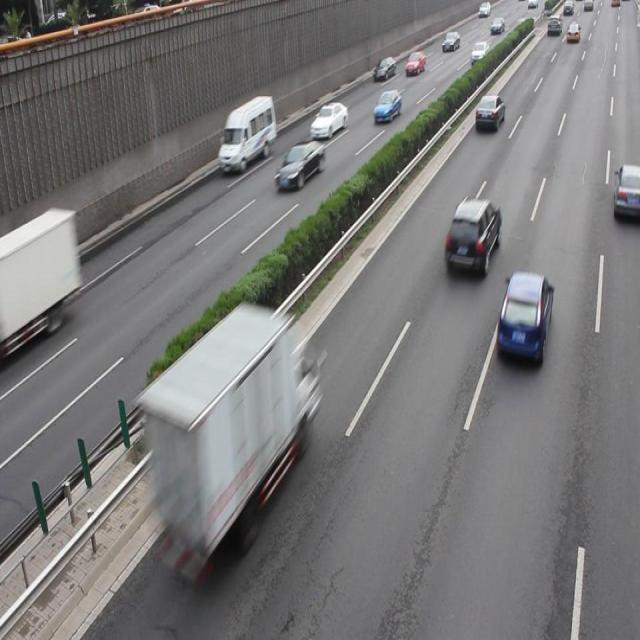bus: (140, 303, 312, 561), (1, 208, 82, 353)
car: (494, 270, 552, 370), (442, 195, 498, 278), (273, 137, 324, 191), (610, 163, 640, 218), (309, 102, 347, 140), (473, 92, 504, 132), (371, 88, 400, 126)
truck: (217, 94, 275, 172)
